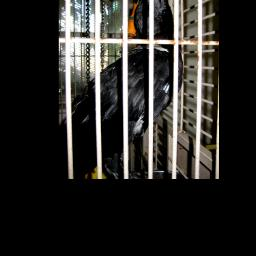Crow: (60, 0, 183, 179)
